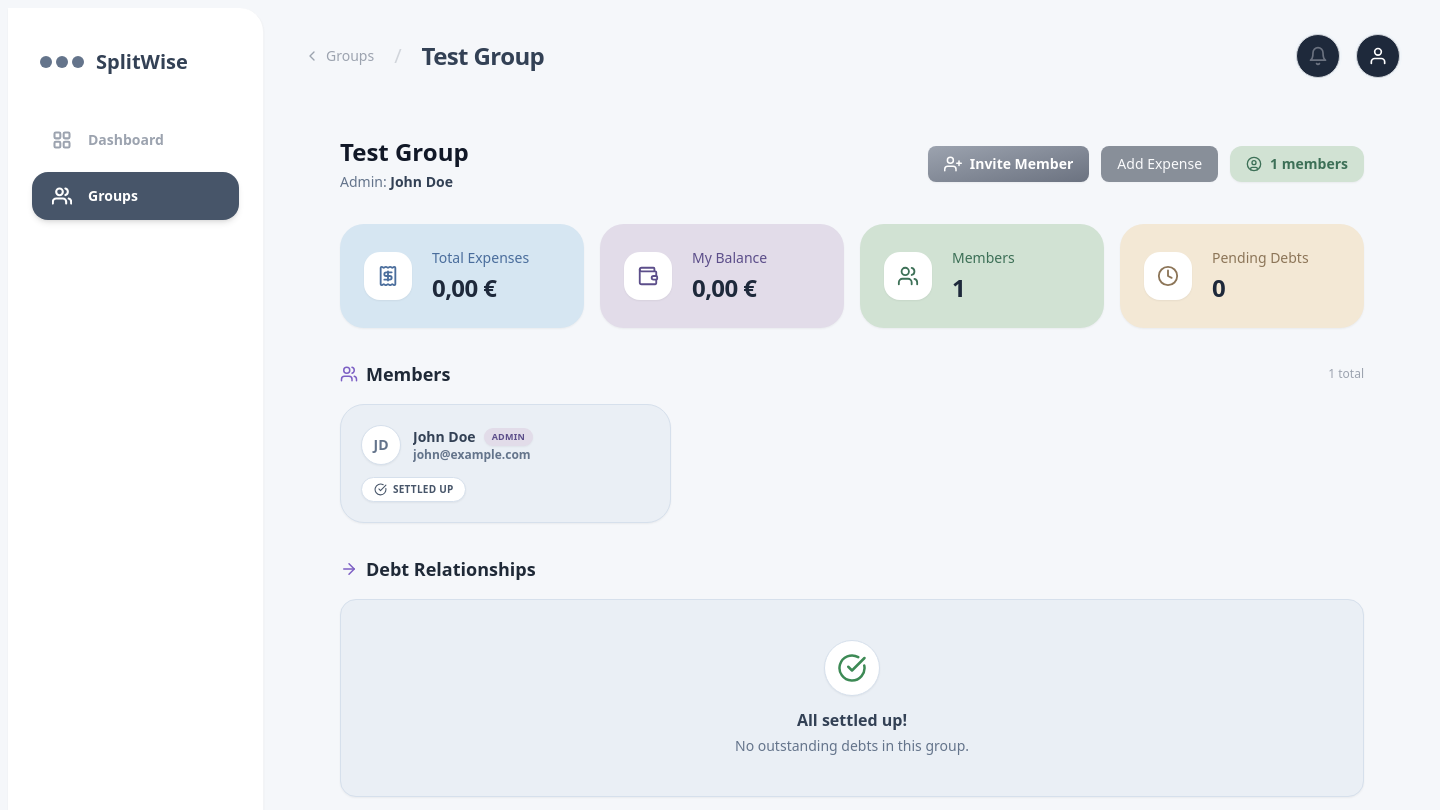
InviteMemberModal (inside GroupDetails) › can cancel and close the modal
Click the button "Invite Member" at (1009, 164), box [928,146,1089,182]
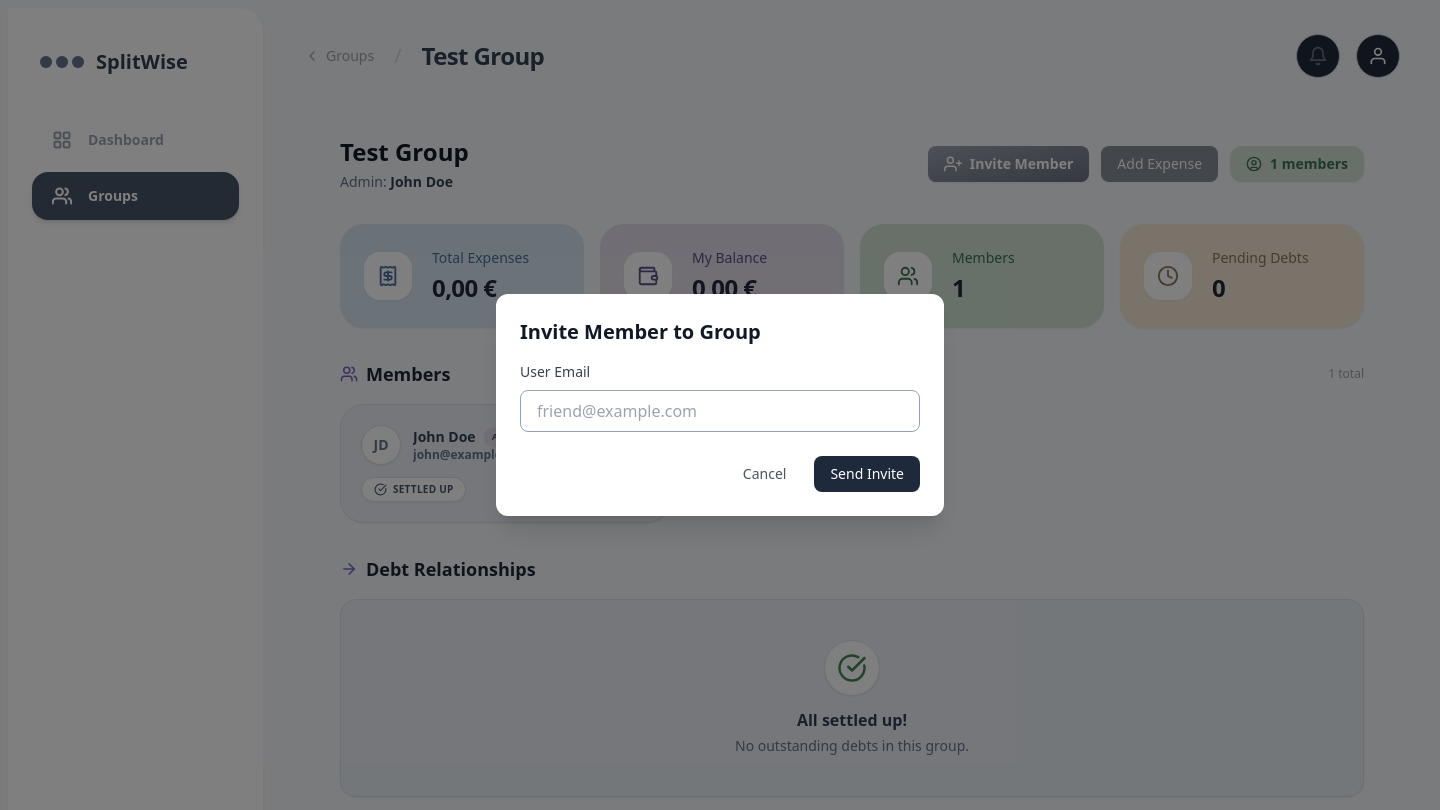
Now the heading "Invite Member to Group" is shown, box [520,318,761,345]
Note: Click Cancel
Click the button "Cancel" at (765, 474), box [727,456,802,492]
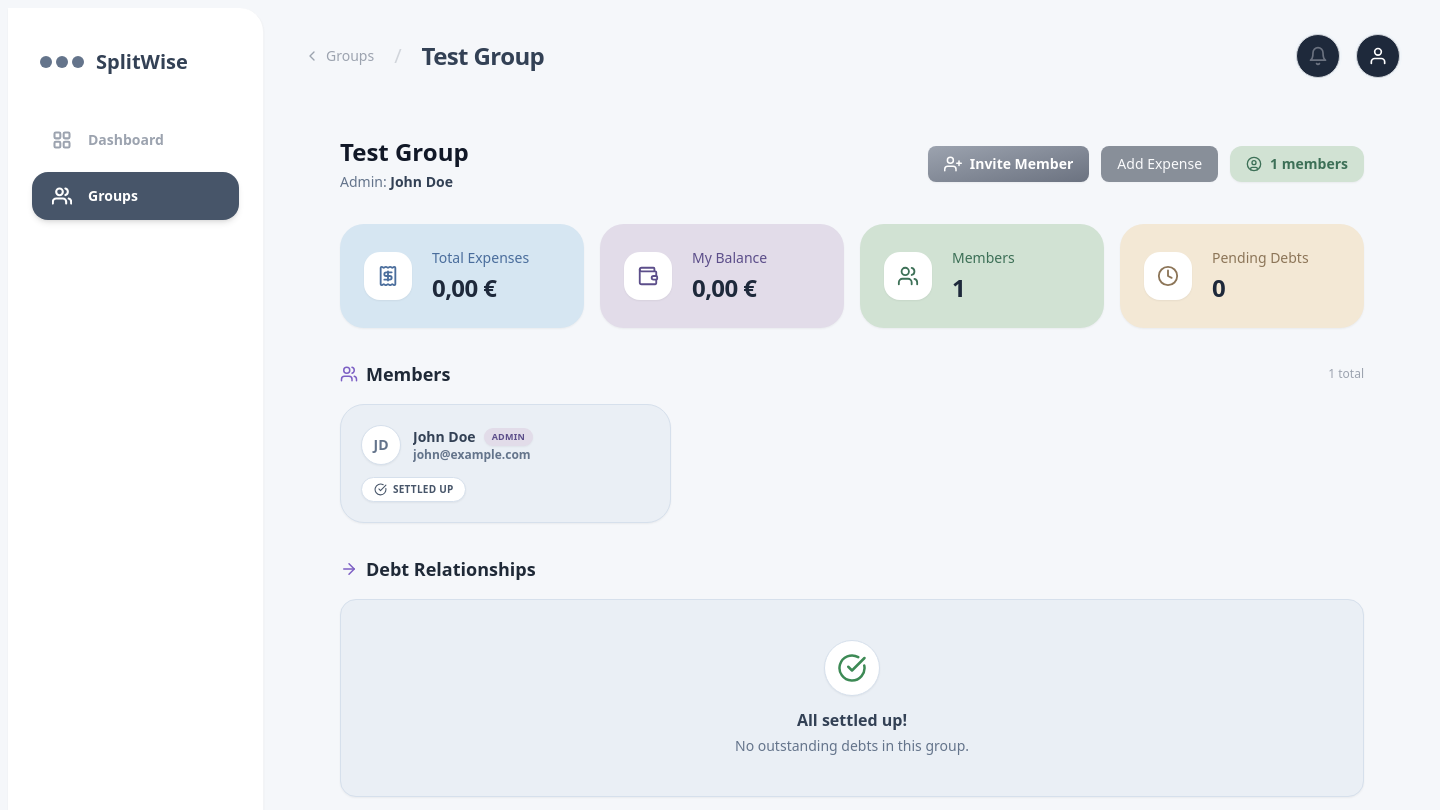
Now the heading "Invite Member to Group" is gone
